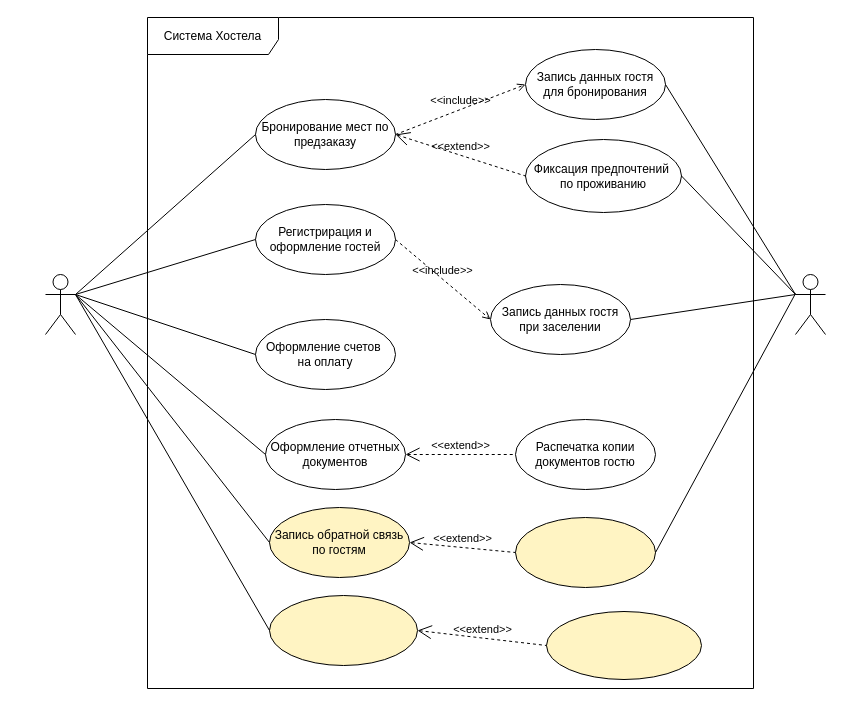
The diagram is 866 pixels wide and 706 high, and some of its shapes have lost their labels. The shapes that lost their labels are listed below. From the top down, each one's box as (x1, y1, x2, y2) in pixels, then its label:
(44, 274, 76, 334): Администратор хостела
(794, 274, 826, 334): CRM система
(514, 516, 656, 588): Прикрепление фотографии
(268, 594, 418, 666): Формирование статистического отчета
(546, 610, 702, 680): Отправка отчета руководителю по почте
